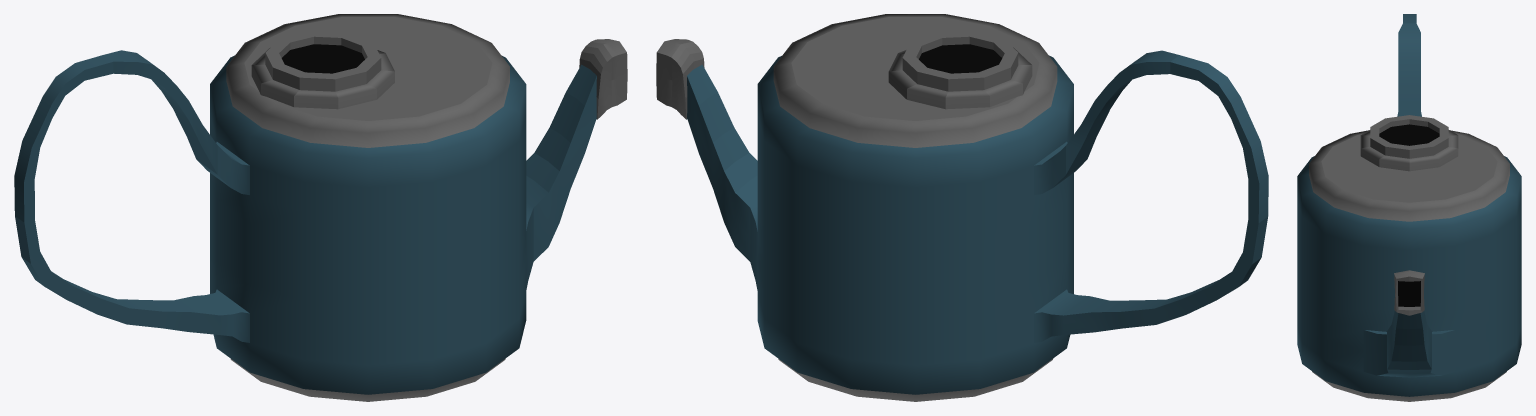
File: WateringCan_Standin.fbx
3 views of the same model, side by side, from view 1: azimuth 30°, elevation 25°; view 2: azimuth 150°, elevation 25°; view 3: azimuth 270°, elevation 25° (orthographic). The views are drawn at different scales.
Parts seen in each view (by area): view 1: pCylinder3; view 2: pCylinder3; view 3: pCylinder3.
Part boxes in pixels (bbox=[...]): pCylinder3: bbox=[14, 14, 627, 401]; pCylinder3: bbox=[656, 14, 1268, 401]; pCylinder3: bbox=[1297, 14, 1521, 401].
Size of the model in its own units: 4.8 by 2.65 by 2.19.
